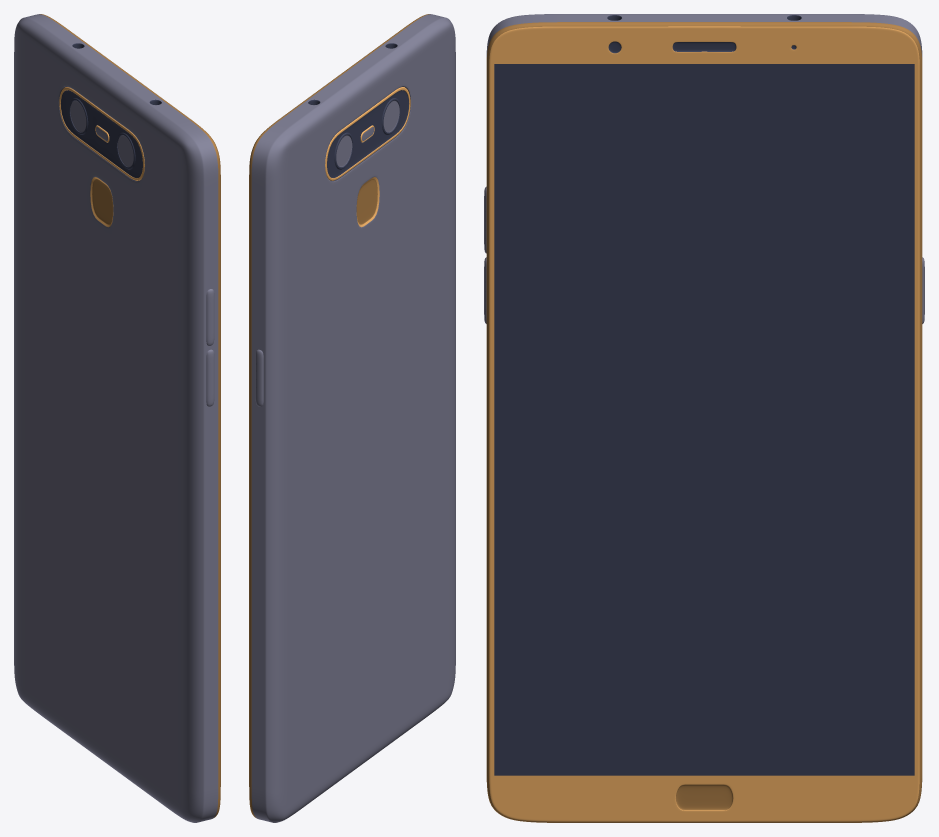
File: Smartphone.glb
3 renders of one model, left to right at view 1: azimuth 30°, elevation 25°; view 2: azimuth 150°, elevation 25°; view 3: azimuth 270°, elevation 25°, orthographic. The views are drawn at different scales.
Parts seen in each view (by area): view 1: Smartphone.001; view 2: Smartphone.001; view 3: Smartphone.001.
Part boxes in pixels (<box>): Smartphone.001: <box>14,14,220,822</box>; Smartphone.001: <box>249,14,455,822</box>; Smartphone.001: <box>484,14,924,822</box>.
Size of the model in its own units: 0.1981 by 4.84 by 2.42.
